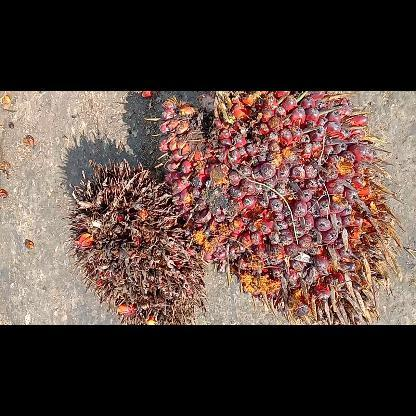TBS masak: (144, 90, 404, 324)
Terlalu masak: (62, 158, 206, 324)
